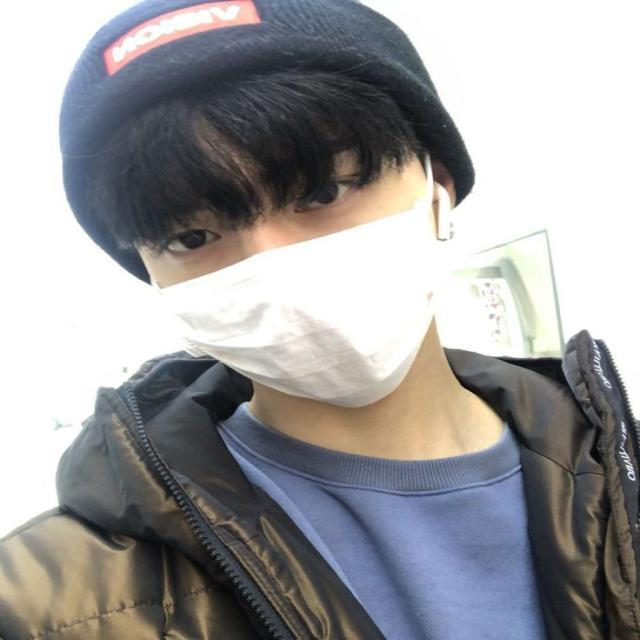earphone: (422, 172, 465, 242)
